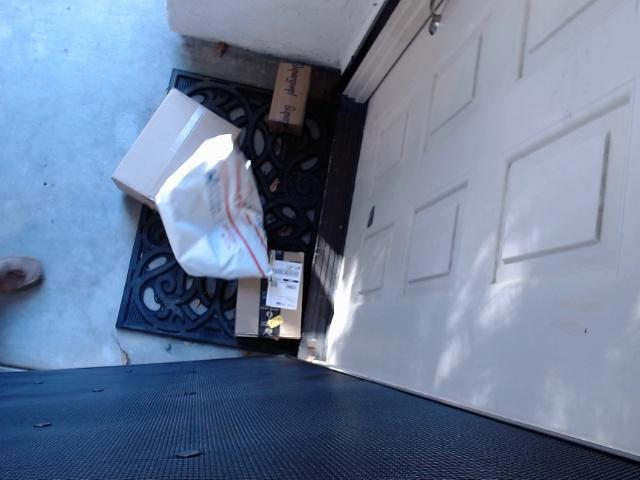box: (101, 69, 243, 206), (228, 236, 314, 358), (256, 51, 325, 129)
plastic_bag: (156, 141, 276, 286)
